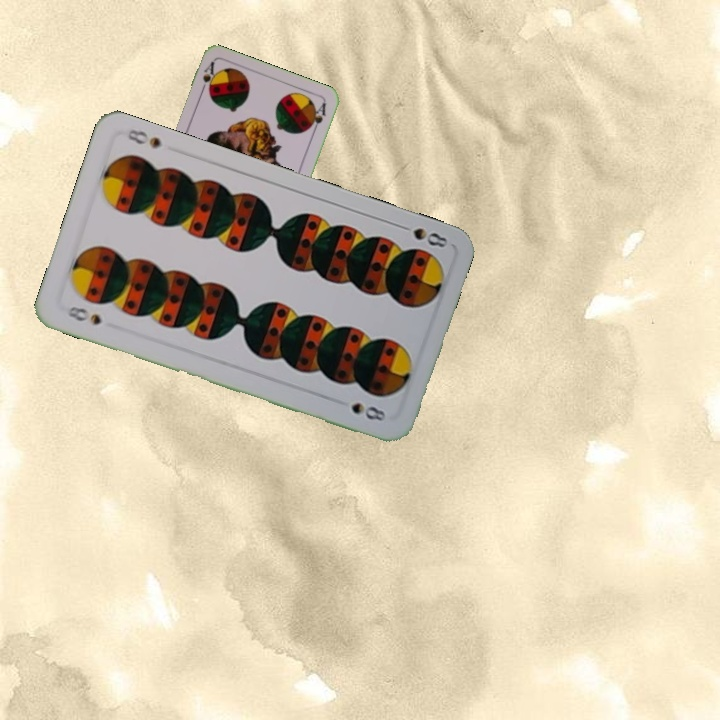S8: (393, 220, 450, 250), (63, 302, 104, 328)
SA: (196, 58, 218, 97)
